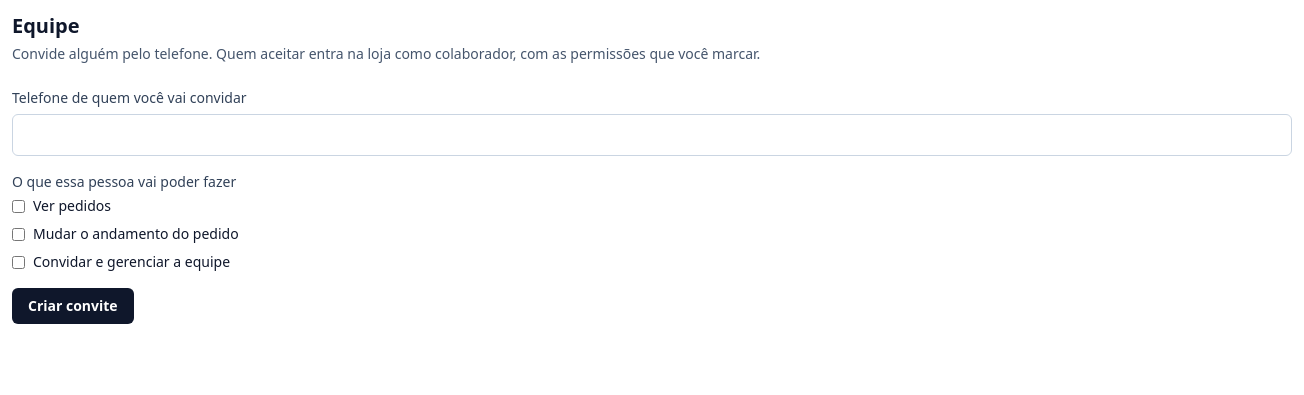
Test: ConvidarParaEquipe › a recusa sai quando um campo muda
Type "(81) 98765-4321" into the field labelled "Telefone de quem você vai convidar" at (652, 135), box [12,114,1292,156]
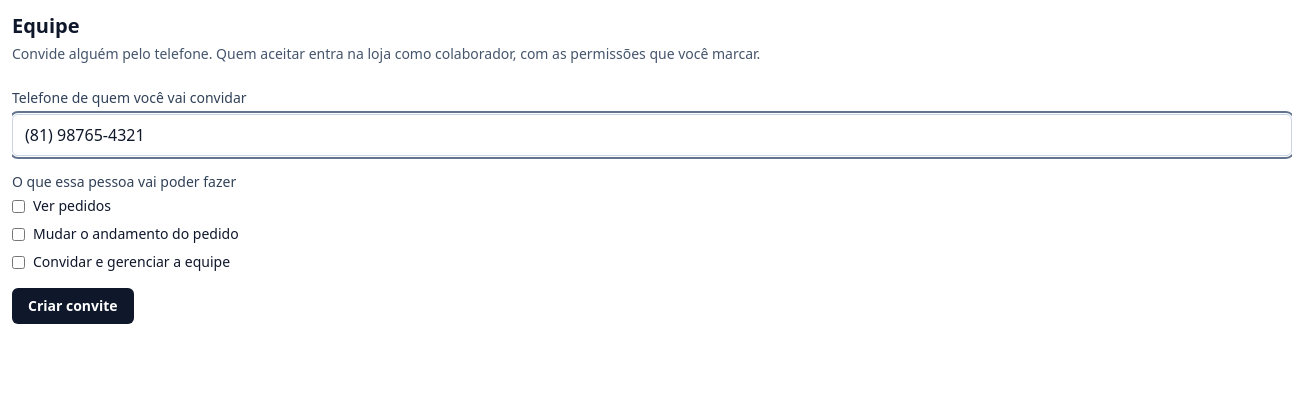
Click the checkbox labelled "Ver pedidos" at (18, 206), box [12,200,25,212]
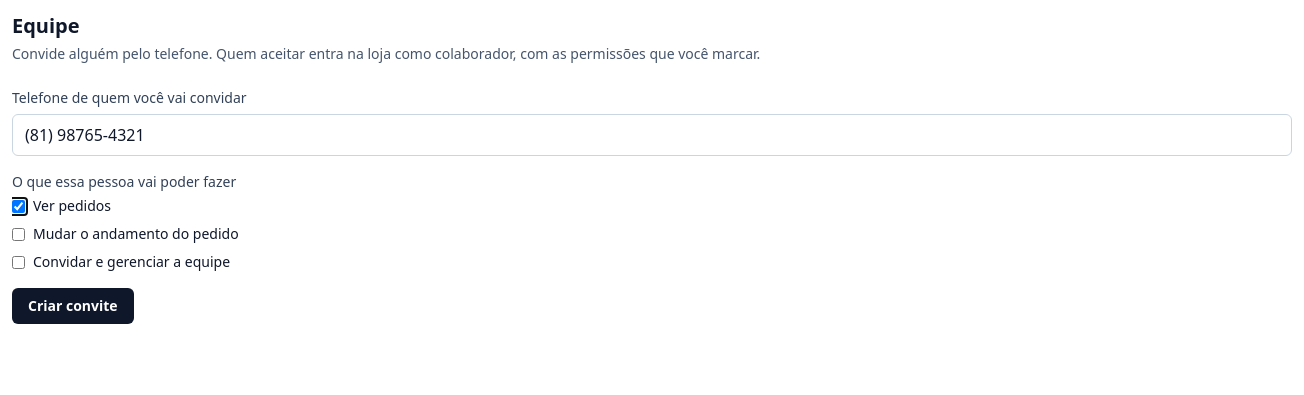
Click the button "Criar convite" at (73, 306), box [12,288,134,324]
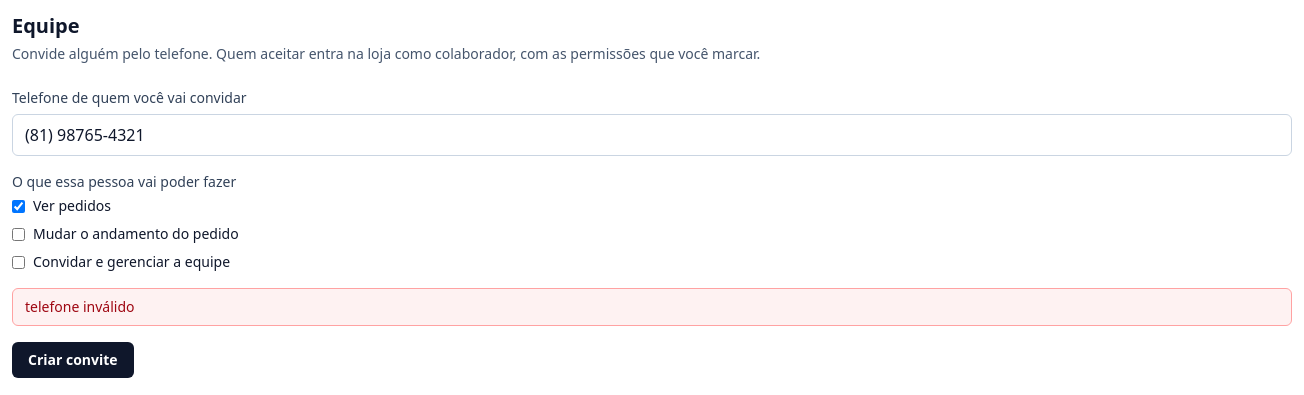
Now the text "telefone inválido" is shown, box [12,288,1292,326]
Type "0" into the field labelled "Telefone de quem você vai convidar" at (652, 135), box [12,114,1292,156]
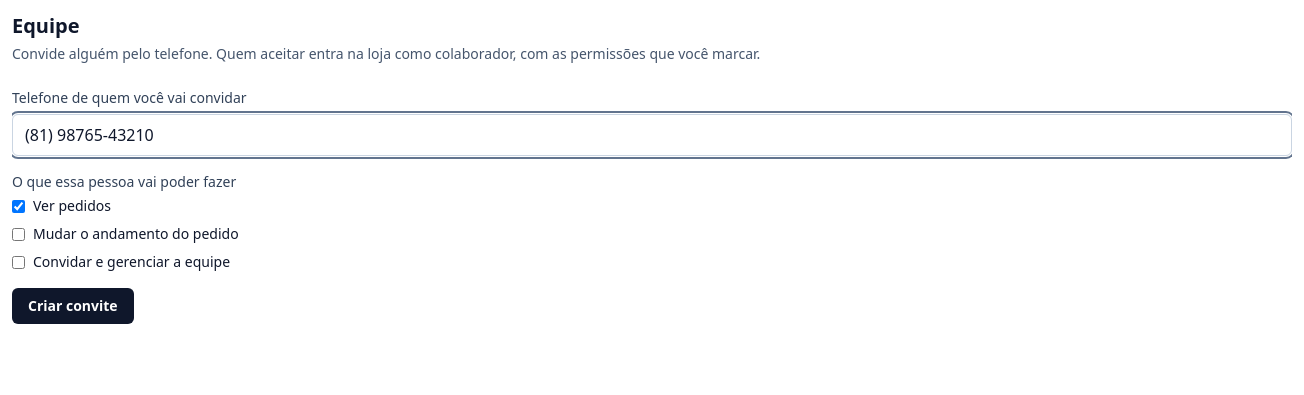
Now the text "telefone inválido" is gone
